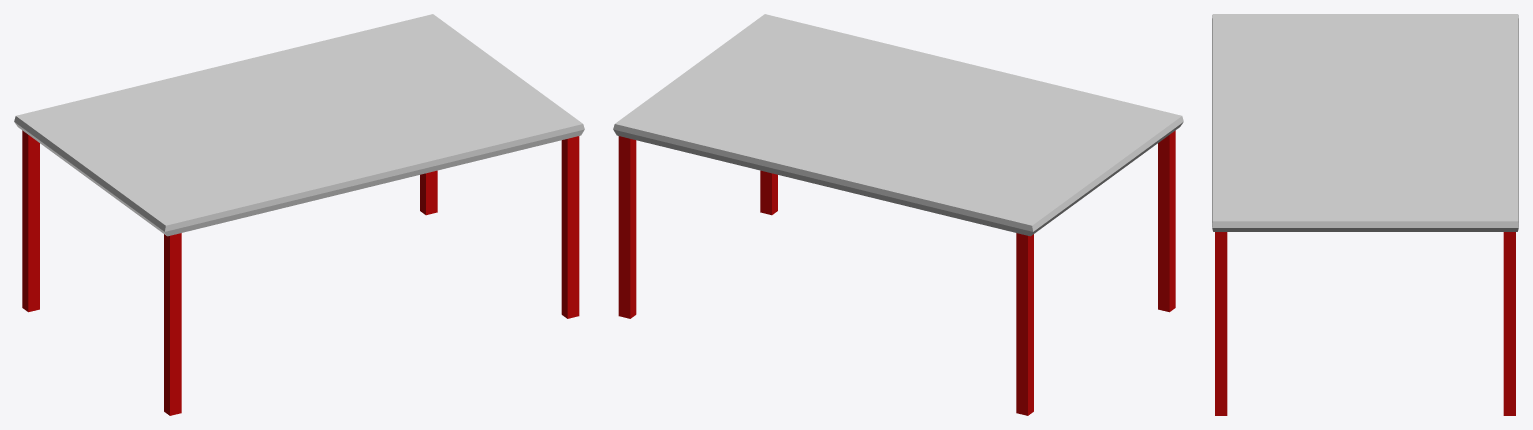
The model's file is Metal_table.fbx.
3 views of the same model, side by side, from view 1: azimuth 30°, elevation 25°; view 2: azimuth 150°, elevation 25°; view 3: azimuth 270°, elevation 25° (orthographic).
Visible parts, largest first — view 1: Table_1; view 2: Table_1; view 3: Table_1.
Boxes of the visible parts, x1,y1,x2,y2 form: Table_1: (14, 14, 584, 415); Table_1: (613, 14, 1183, 415); Table_1: (1212, 14, 1518, 415).
Size of the model in its own units: 100 by 161 by 70.61.
